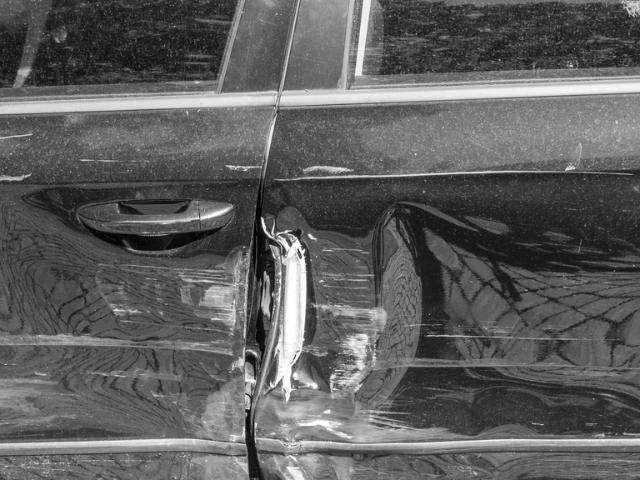Door: (266, 111, 552, 480), (75, 165, 247, 480)
